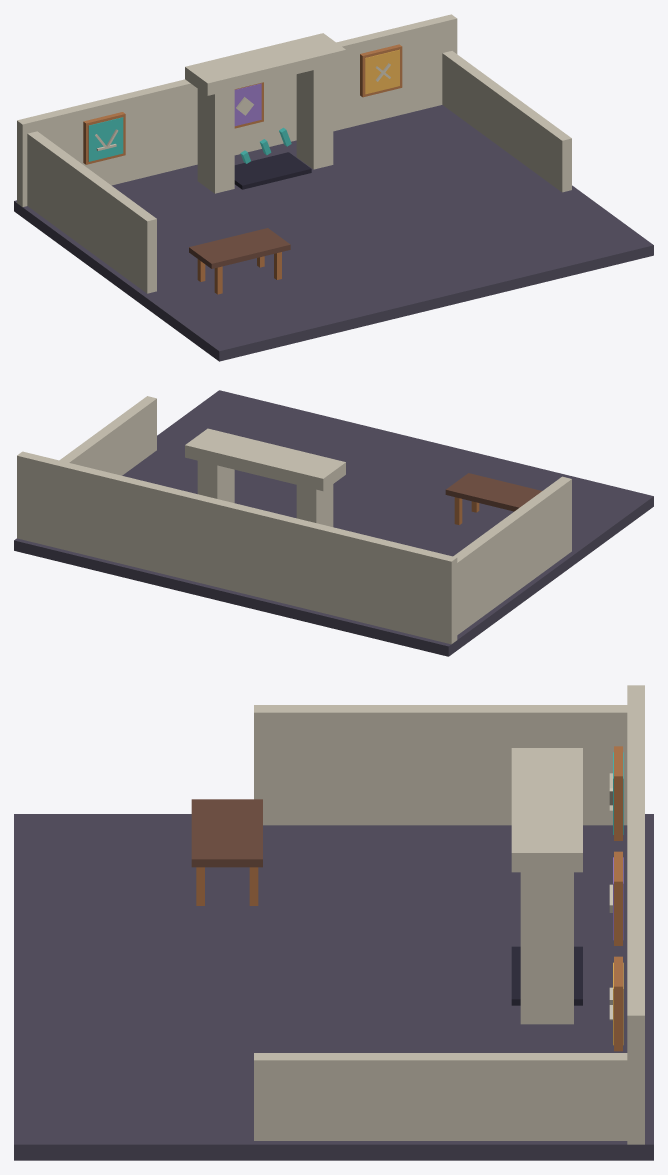
The model's file is memory_hearth.glb.
3 views of the same model, one above another, from view 1: azimuth 30°, elevation 25°; view 2: azimuth 150°, elevation 25°; view 3: azimuth 270°, elevation 25° (orthographic). The views are drawn at different scales.
Parts seen in each view (by area): view 1: memory_hearth; view 2: memory_hearth; view 3: memory_hearth.
Part boxes in pixels (x1,y1,x2,y2): memory_hearth: (14,14,653,361); memory_hearth: (14,390,653,656); memory_hearth: (14,685,653,1160).
Bounding box in the file's own units: 44 × 12.1 × 36.
